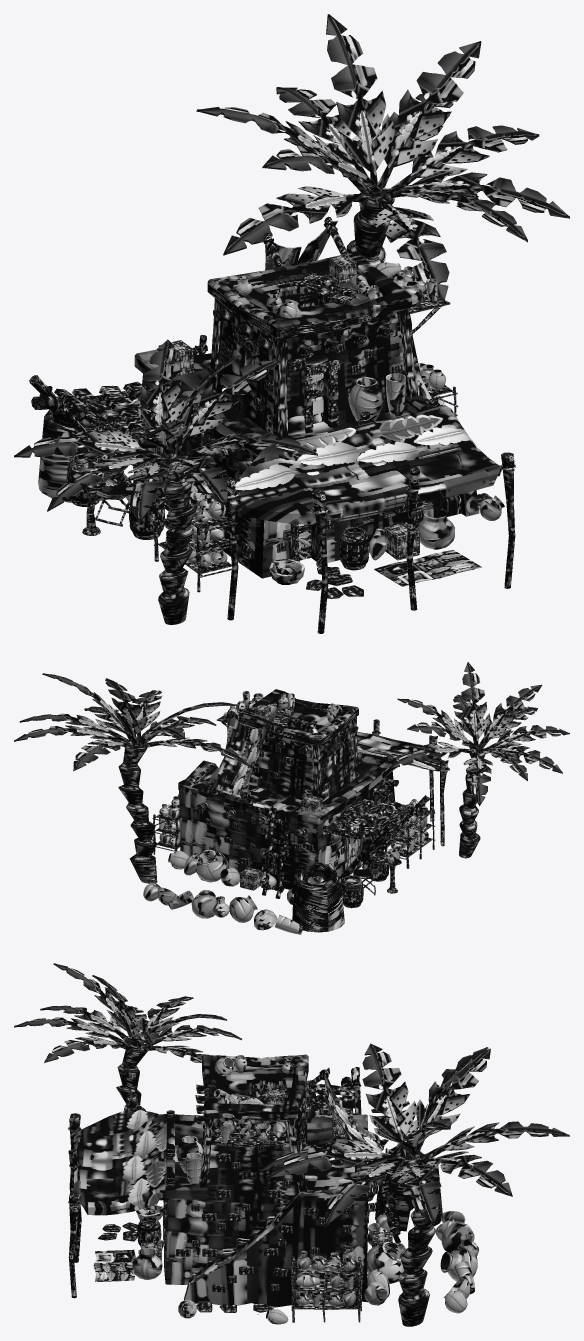
File: pots.fbx
3 renders of one model, top to bottom at view 1: azimuth 30°, elevation 25°; view 2: azimuth 150°, elevation 25°; view 3: azimuth 270°, elevation 25°, orthographic. The views are drawn at different scales.
Visible parts, largest first — view 1: Pottery; view 2: Pottery; view 3: Pottery.
Part boxes in pixels (x1,y1,x2,y2): Pottery: (14,14,569,633); Pottery: (14,662,569,934); Pottery: (14,963,569,1326).
Bounding box in the file's own units: 1911 × 974 × 1699.
